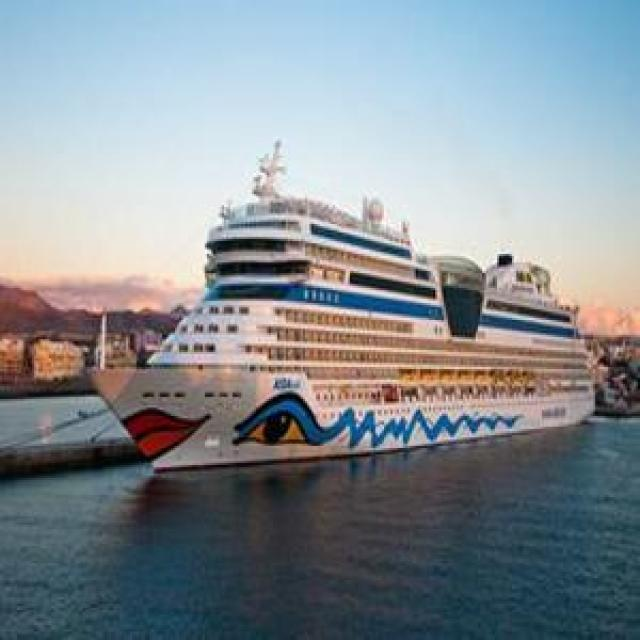passenger ship: (92, 184, 605, 468)
